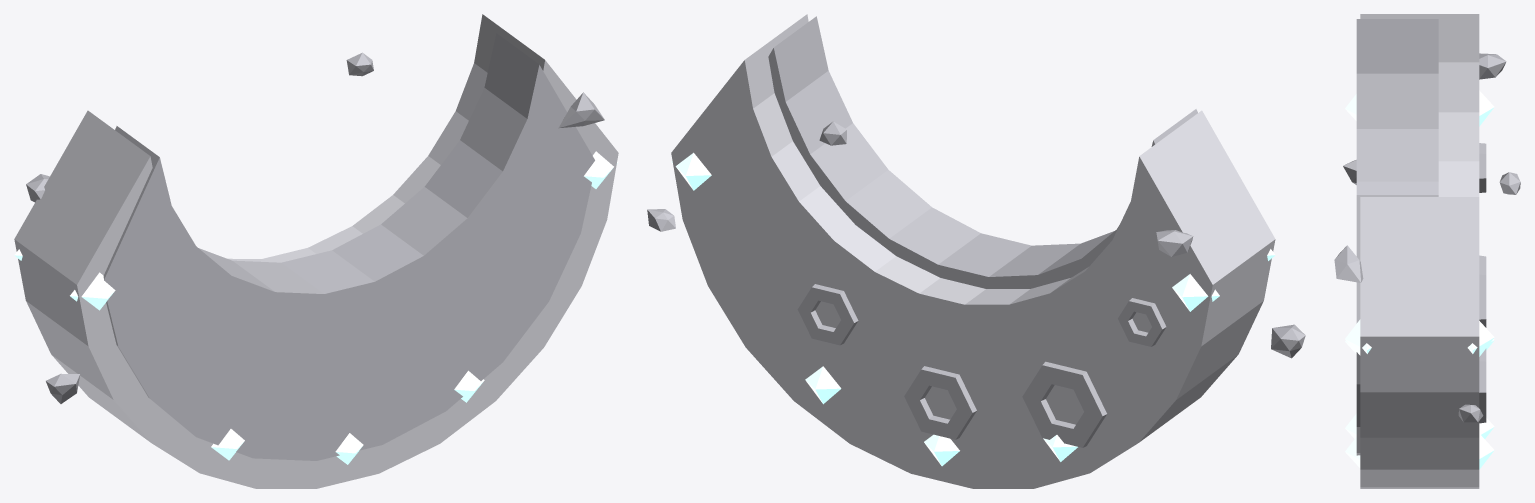
The model's file is Orbit_Seat.fbx.
The picture shows the model from 3 angles, left to right: view 1: azimuth 30°, elevation 25°; view 2: azimuth 150°, elevation 25°; view 3: azimuth 270°, elevation 25°; orthographic projection. The views are drawn at different scales.
Visible parts, largest first — view 1: OrbitSeat_MoonShade_MoonShadow, OrbitSeat_Moon_MoonGrey, OrbitSeat_Gems_Starlight, OrbitSeat_Shards_MoonShadow; view 2: OrbitSeat_Moon_MoonGrey, OrbitSeat_MoonShade_MoonShadow, OrbitSeat_Gems_Starlight, OrbitSeat_Shards_MoonShadow; view 3: OrbitSeat_Moon_MoonGrey, OrbitSeat_MoonShade_MoonShadow, OrbitSeat_Shards_MoonShadow, OrbitSeat_Gems_Starlight.
Part boxes in pixels (x1=…): OrbitSeat_MoonShade_MoonShadow: x1=103, y1=33, x2=594, y2=460; OrbitSeat_Moon_MoonGrey: x1=14, y1=14, x2=618, y2=488; OrbitSeat_Gems_Starlight: x1=14, y1=151, x2=618, y2=464; OrbitSeat_Shards_MoonShadow: x1=26, y1=52, x2=604, y2=403; OrbitSeat_Moon_MoonGrey: x1=671, y1=14, x2=1275, y2=488; OrbitSeat_MoonShade_MoonShadow: x1=768, y1=16, x2=1197, y2=447; OrbitSeat_Gems_Starlight: x1=671, y1=152, x2=1275, y2=466; OrbitSeat_Shards_MoonShadow: x1=647, y1=121, x2=1305, y2=358; OrbitSeat_Moon_MoonGrey: x1=1360, y1=14, x2=1479, y2=488; OrbitSeat_MoonShade_MoonShadow: x1=1356, y1=19, x2=1486, y2=455; OrbitSeat_Shards_MoonShadow: x1=1334, y1=53, x2=1520, y2=422; OrbitSeat_Gems_Starlight: x1=1345, y1=90, x2=1494, y2=469.
Bounding box in the file's own units: 7.7 × 4.6 × 2.19.
